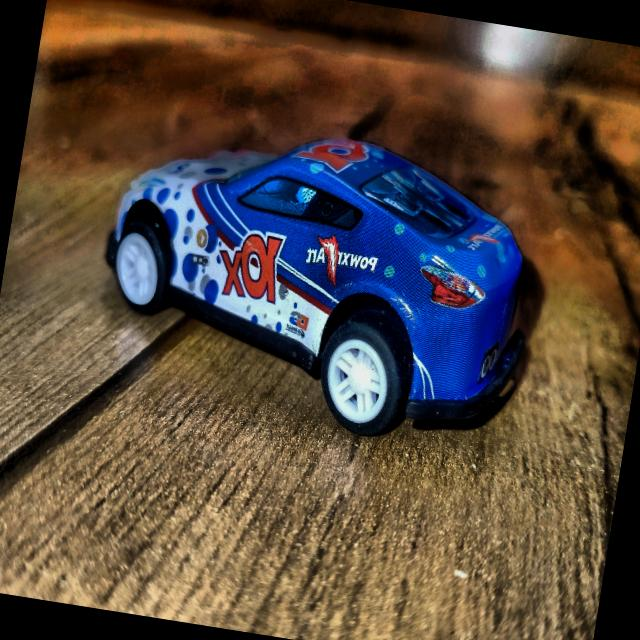Car: (86, 107, 549, 457)
